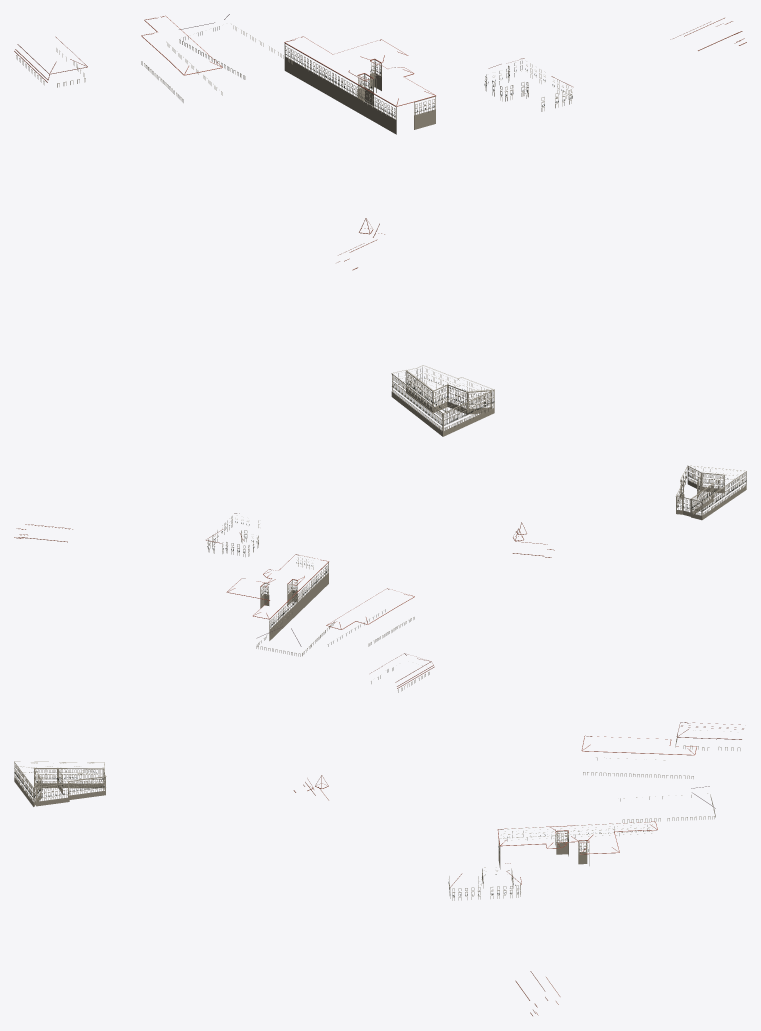
3 renders of one model, top to bottom at view 1: azimuth 30°, elevation 25°; view 2: azimuth 150°, elevation 25°; view 3: azimuth 270°, elevation 25°, orthographic. The views are drawn at different scales.
Parts seen in each view (by area): view 1: detail; view 2: detail; view 3: detail.
Part boxes in pixels (x1,y1,x2,y2): detail: (14,14,746,436); detail: (14,465,746,692); detail: (14,722,743,1015).
Bounding box in the file's own units: 402 × 61.19 × 496.
